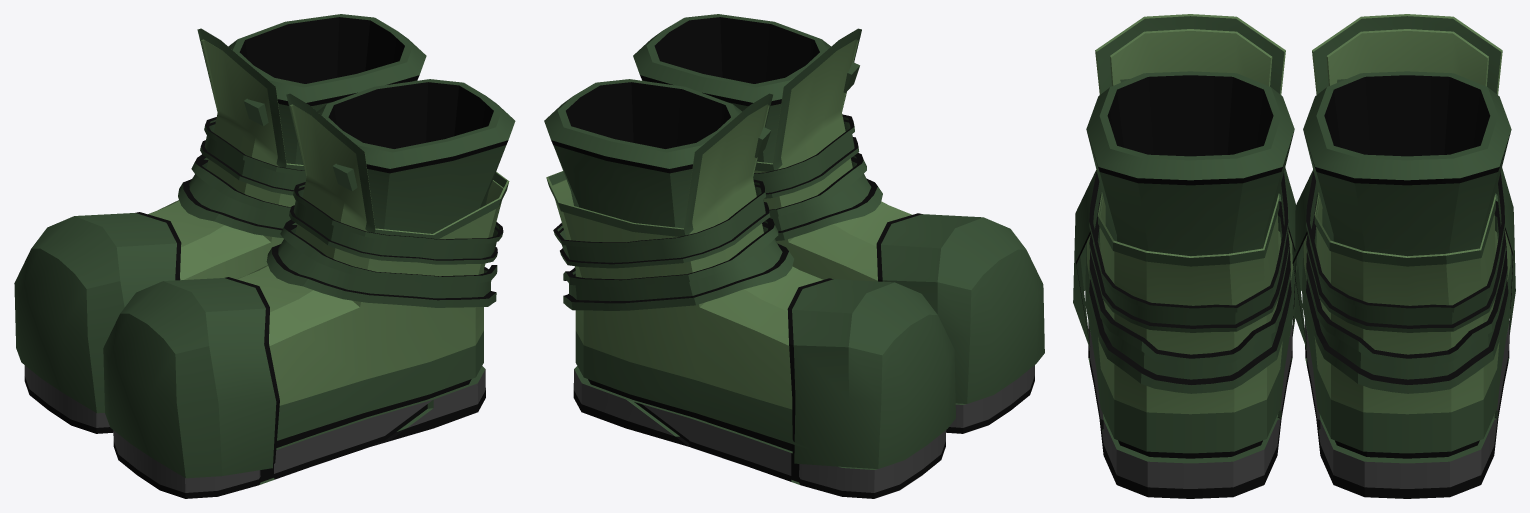
File: T1_Shoes.fbx
The picture shows the model from 3 angles, left to right: view 1: azimuth 30°, elevation 25°; view 2: azimuth 150°, elevation 25°; view 3: azimuth 270°, elevation 25°; orthographic projection. The views are drawn at different scales.
Visible parts, largest first — view 1: Shoes; view 2: Shoes; view 3: Shoes.
Boxes of the visible parts, x1,y1,x2,y2 form: Shoes: [14, 14, 515, 498]; Shoes: [544, 14, 1044, 498]; Shoes: [1073, 14, 1515, 498].
Size of the model in its own units: 0.8091 by 0.692 by 0.6946.
